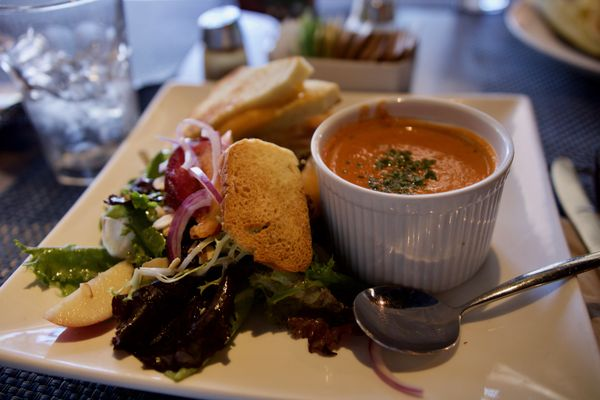salad: (353, 249, 600, 352)
sandwich: (550, 153, 600, 327)
soup: (101, 130, 357, 377), (186, 55, 345, 159)
sushi: (309, 93, 515, 294), (272, 5, 420, 92)
